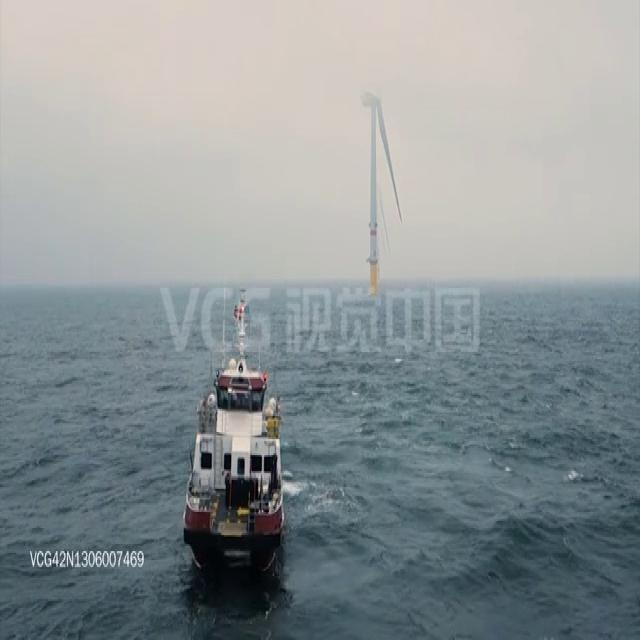houseboat: (182, 326, 287, 560)
